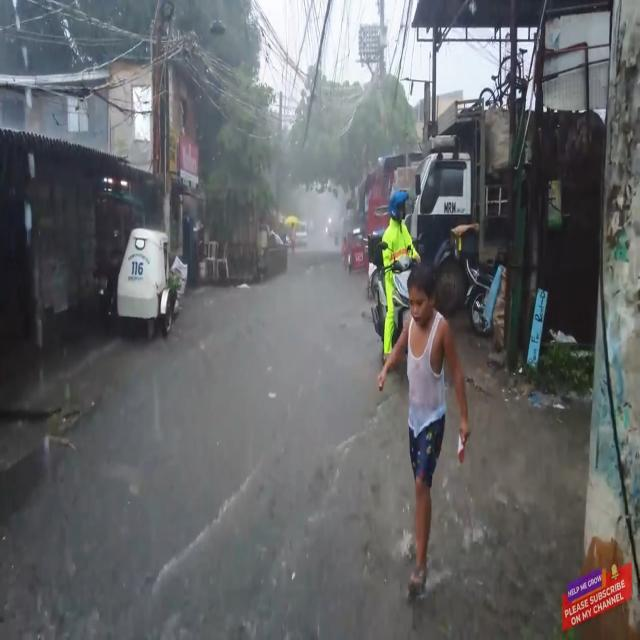half: (389, 190, 409, 222)
